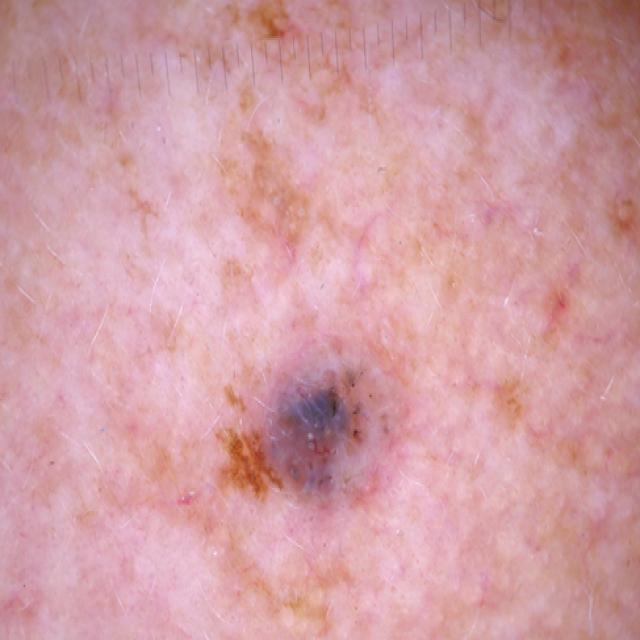Carcinoma: (201, 295, 463, 613)
